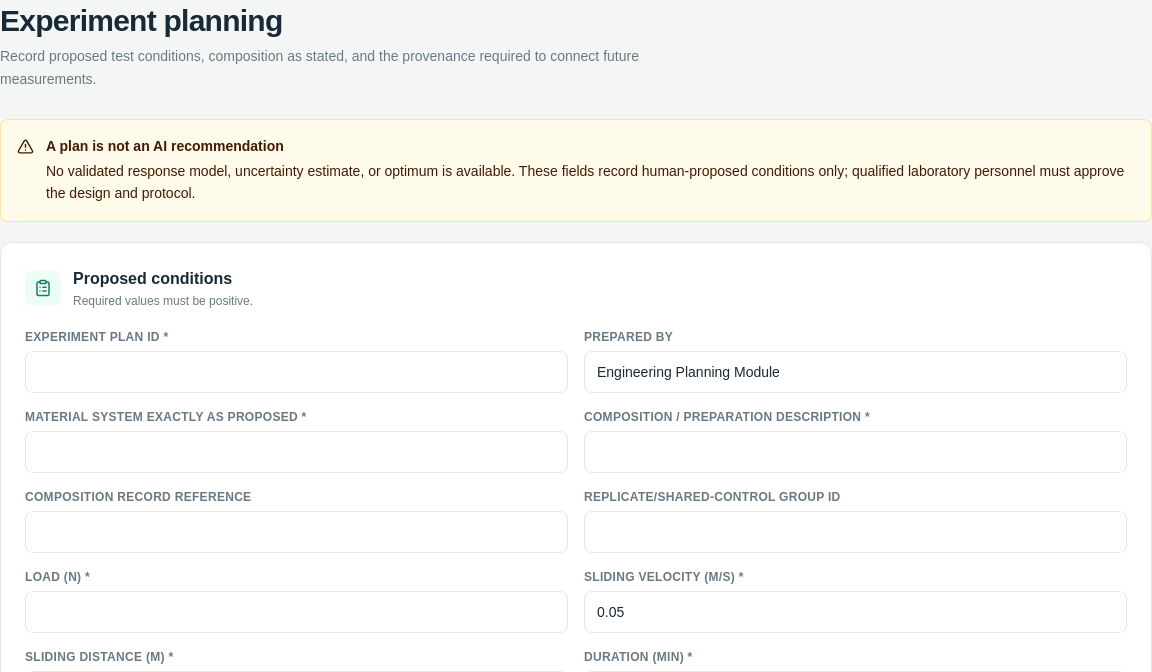
Test: PlanningPage (Unified Planning & Registry Integration) › submits planned experiment and persists as PLANNED
Type "PLAN-NEW-99" into the field labelled "Experiment plan ID *" at (296, 372), box x1=25 y1=351 x2=568 y2=393
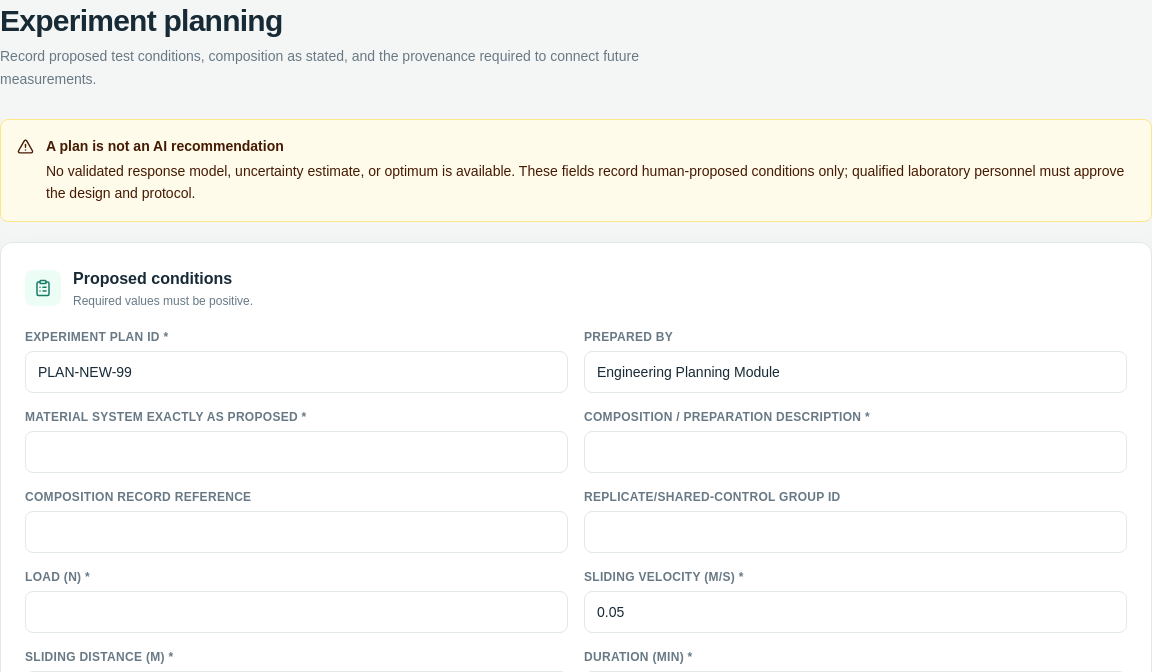
Type "Ti-6Al-4V" into the field labelled "Material system exactly as proposed *" at (296, 452), box x1=25 y1=431 x2=568 y2=473
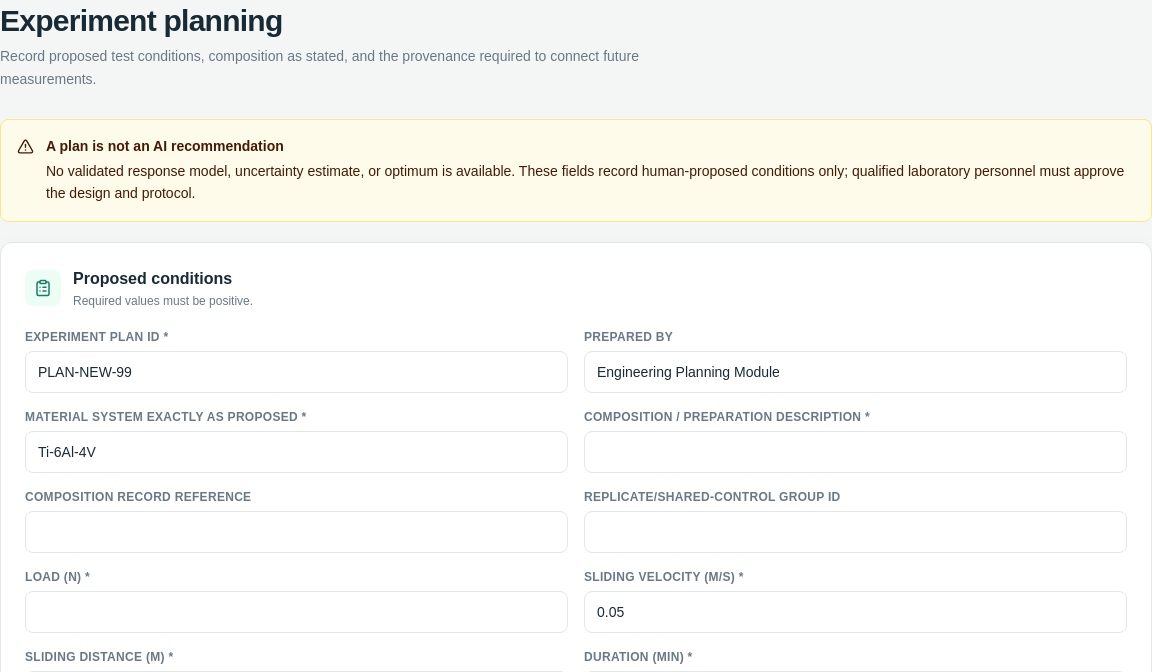
Type "Standard annealed formulation" into the field labelled "Composition / preparation description *" at (856, 452), box x1=584 y1=431 x2=1127 y2=473
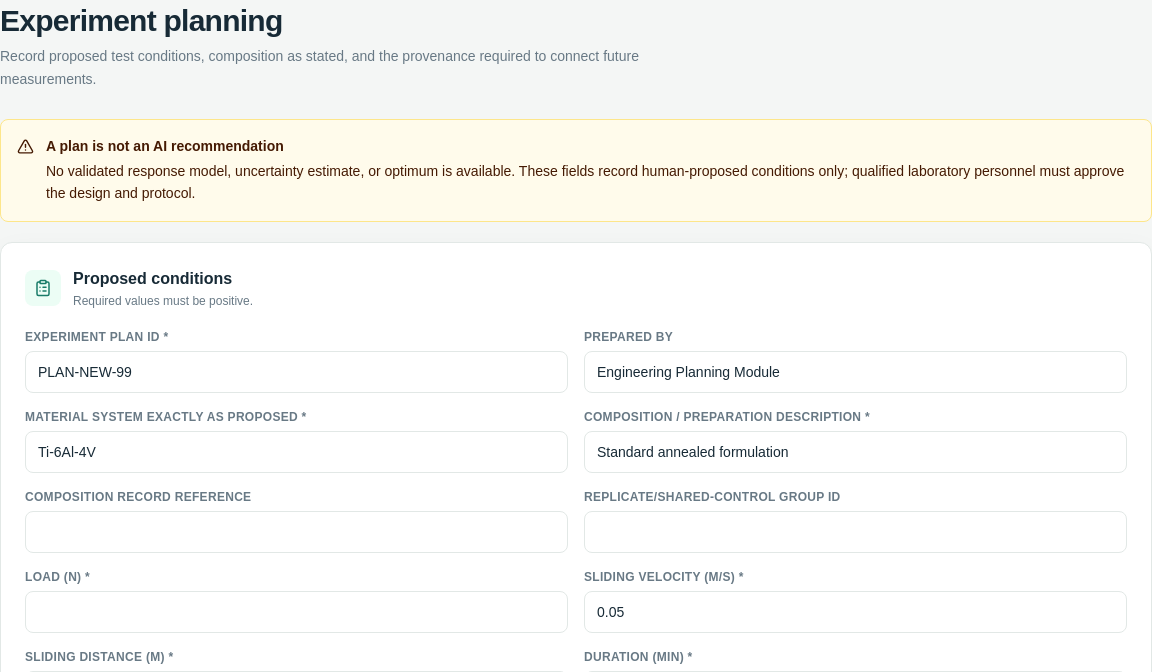
Type "25" into the number field labelled "Load (N) *" at (296, 612), box x1=25 y1=591 x2=568 y2=633
(page scrolled)
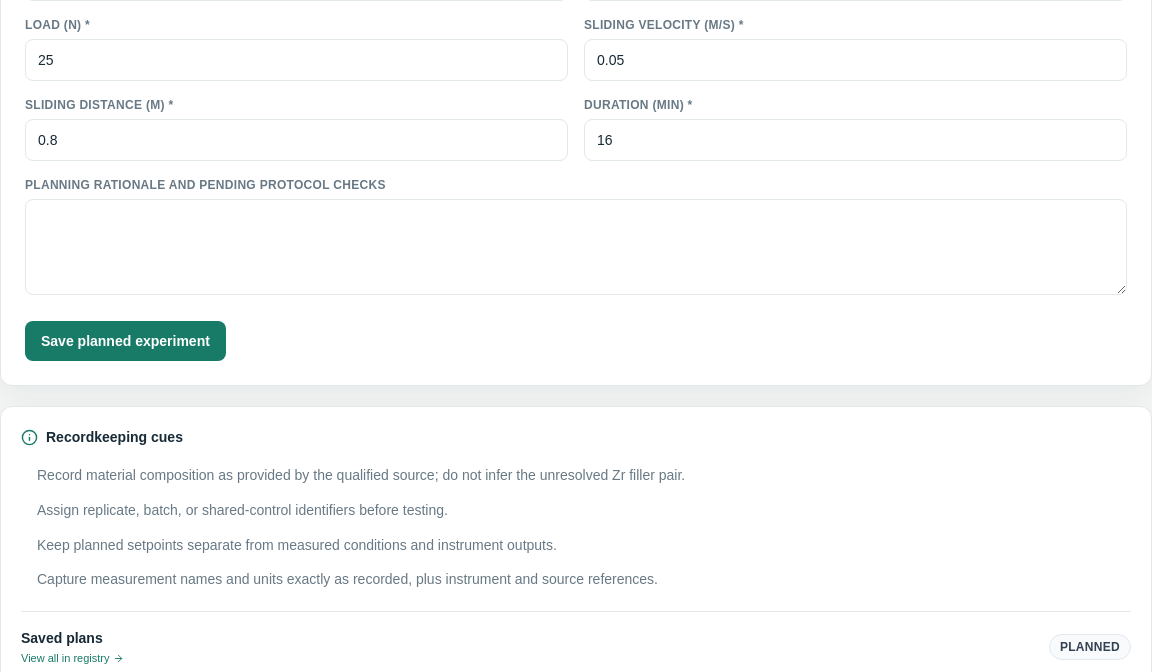
Click the button "Save planned experiment" at (125, 341), box x1=25 y1=321 x2=226 y2=361
(page scrolled)
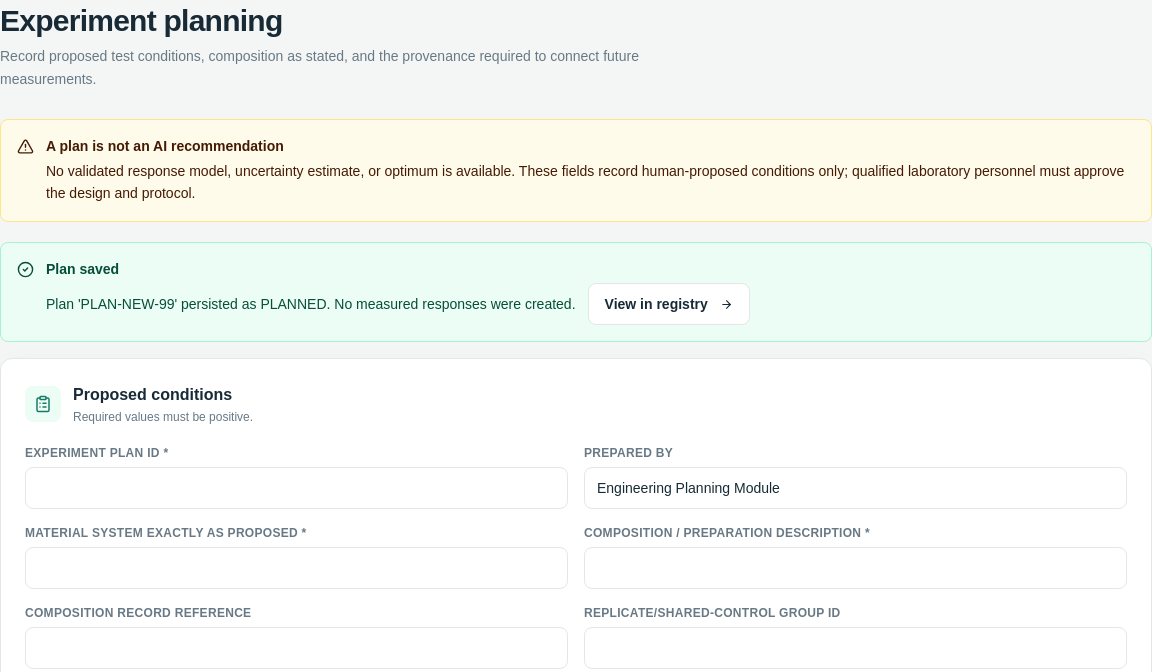
Now the text "persisted as PLANNED" is shown, box x1=46 y1=296 x2=576 y2=312
